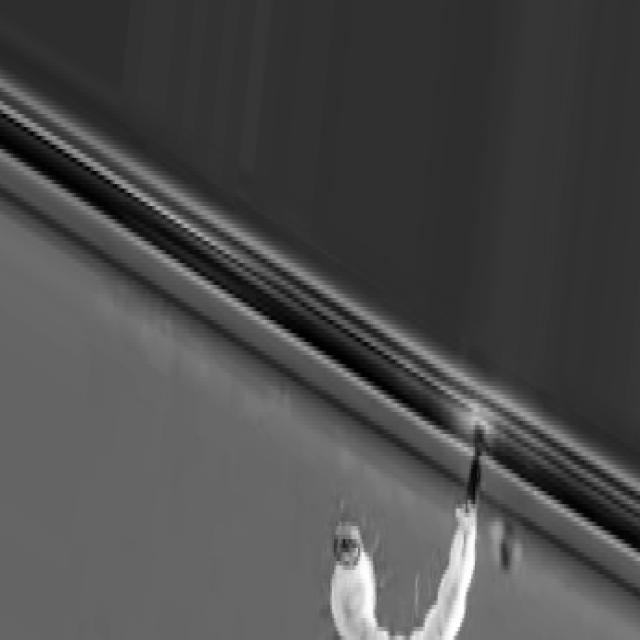larvas: (335, 450, 481, 640)
